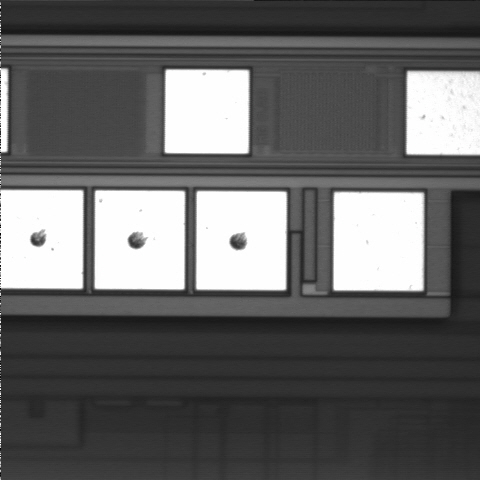pad: (196, 191, 287, 290), (334, 192, 424, 291), (95, 191, 185, 289), (165, 70, 249, 153)
